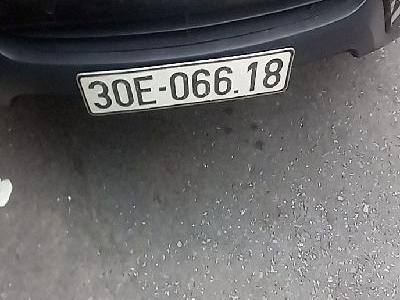number: (78, 49, 294, 115)
